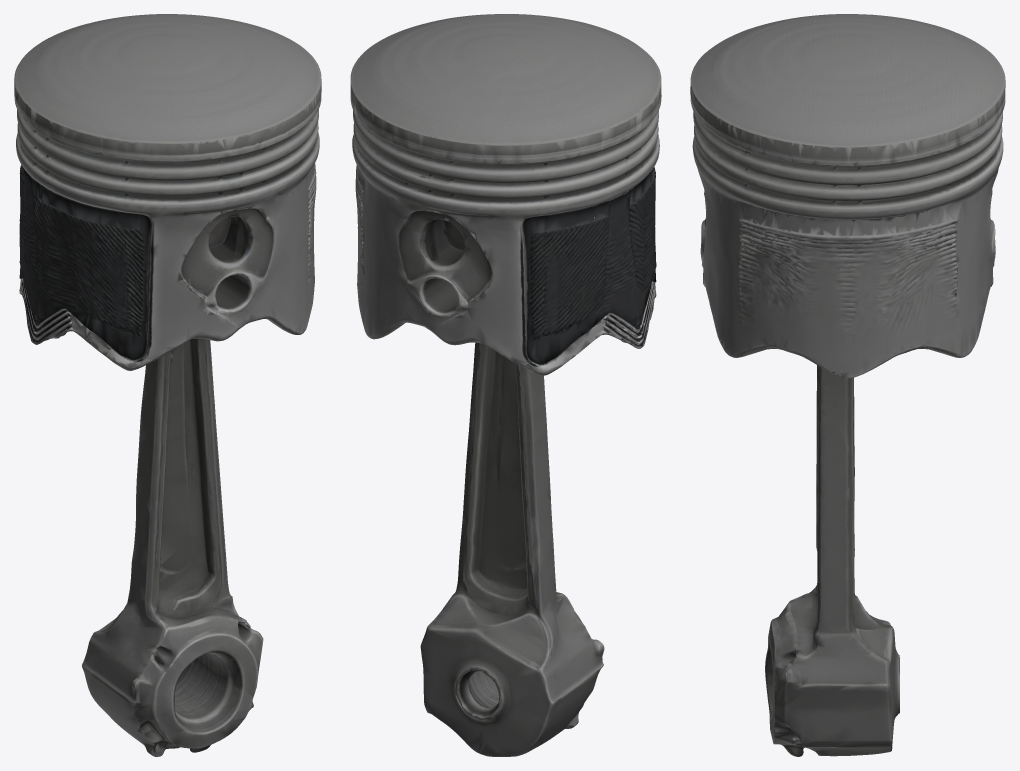
Rendered from piston.glb.
3 renders of one model, left to right at view 1: azimuth 30°, elevation 25°; view 2: azimuth 150°, elevation 25°; view 3: azimuth 270°, elevation 25°, orthographic. The views are drawn at different scales.
Visible parts, largest first — view 1: tripo_node_58000ee8-e4ac-4192-bfb7-29eb930e10ba; view 2: tripo_node_58000ee8-e4ac-4192-bfb7-29eb930e10ba; view 3: tripo_node_58000ee8-e4ac-4192-bfb7-29eb930e10ba.
Part boxes in pixels (box(x1,y1,x2,y2)): tripo_node_58000ee8-e4ac-4192-bfb7-29eb930e10ba: box(14, 14, 321, 756); tripo_node_58000ee8-e4ac-4192-bfb7-29eb930e10ba: box(350, 14, 661, 756); tripo_node_58000ee8-e4ac-4192-bfb7-29eb930e10ba: box(690, 14, 1005, 756).
Size of the model in its own units: 0.4015 by 0.9803 by 0.3992.
1 material, 1 textured.
